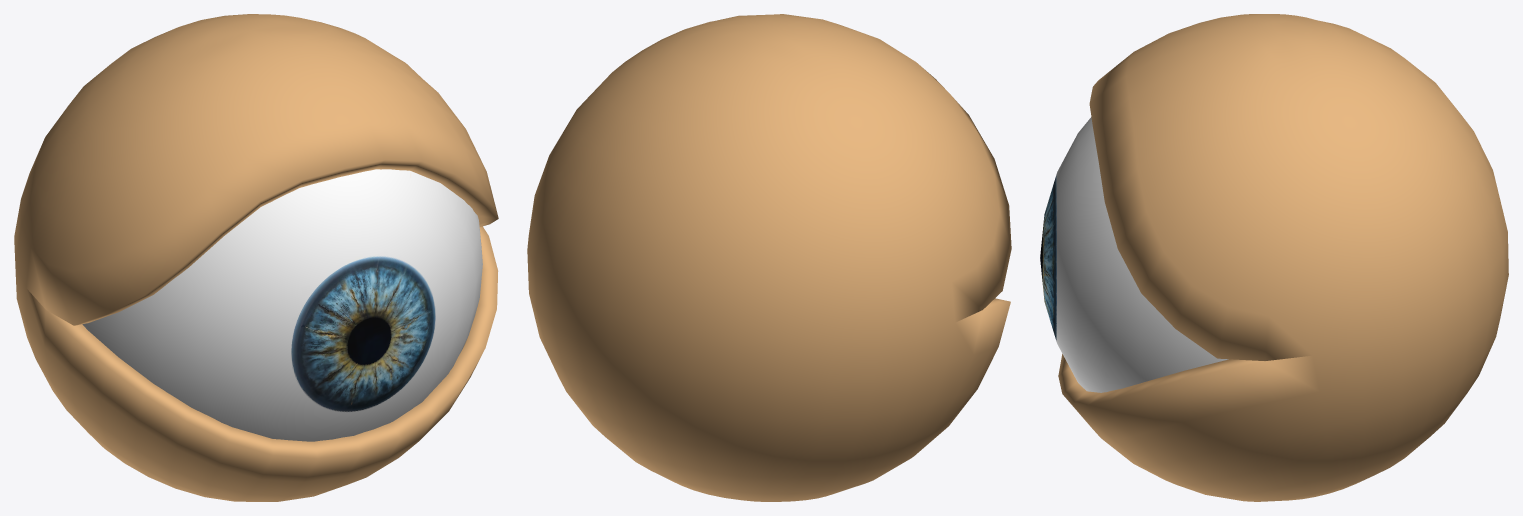
Rendered from evileyeball.fbx.
The picture shows the model from 3 angles, left to right: view 1: azimuth 30°, elevation 25°; view 2: azimuth 150°, elevation 25°; view 3: azimuth 270°, elevation 25°; orthographic projection.
Visible parts, largest first — view 1: eyelid, eye; view 2: eyelid; view 3: eyelid, eye.
Part boxes in pixels (x1=…): eyelid: x1=14, y1=14, x2=498, y2=501; eye: x1=82, y1=169, x2=482, y2=441; eyelid: x1=527, y1=14, x2=1011, y2=501; eyelid: x1=1058, y1=14, x2=1508, y2=501; eye: x1=1040, y1=117, x2=1228, y2=392.
Bounding box in the file's own units: 217 × 217 × 208.
